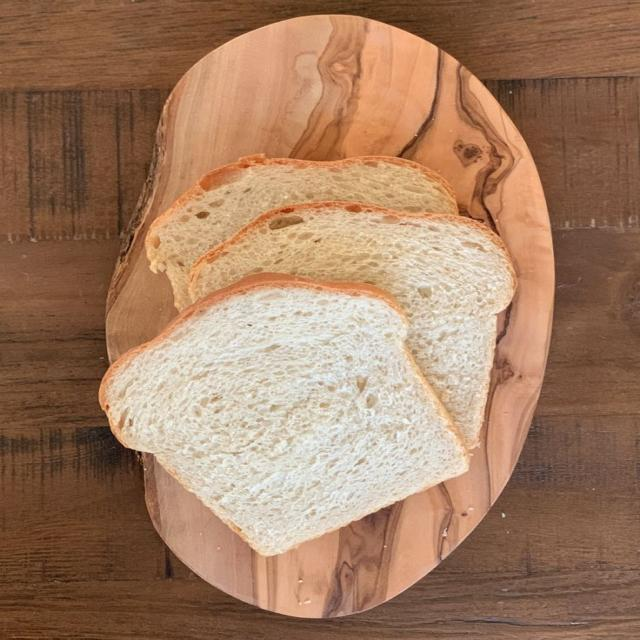Bread: (100, 274, 468, 556), (191, 202, 515, 448), (145, 154, 457, 310)
